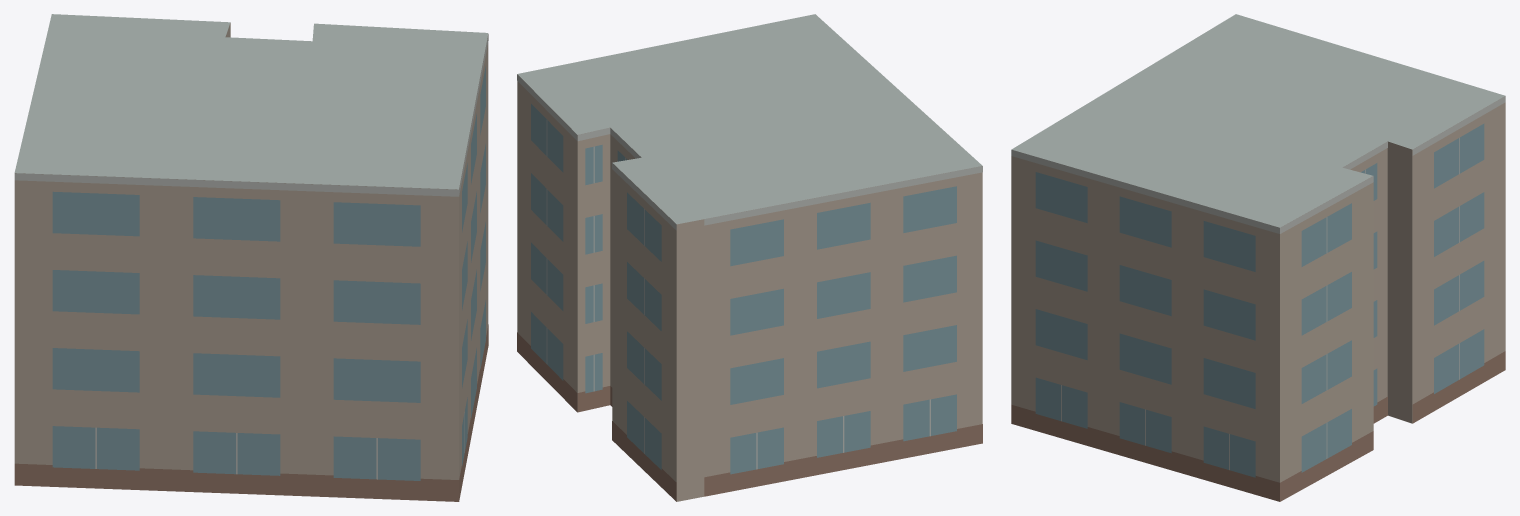
The model's file is survey-upis-32832203.glb.
The picture shows the model from 3 angles, left to right: view 1: azimuth 30°, elevation 25°; view 2: azimuth 150°, elevation 25°; view 3: azimuth 270°, elevation 25°; orthographic projection. The views are drawn at different scales.
Visible parts, largest first — view 1: survey-upis-32832203.tmp; view 2: survey-upis-32832203.tmp; view 3: survey-upis-32832203.tmp.
Part boxes in pixels (x1,y1,x2,y2): survey-upis-32832203.tmp: [14, 14, 488, 501]; survey-upis-32832203.tmp: [517, 14, 982, 501]; survey-upis-32832203.tmp: [1011, 14, 1505, 501].
Size of the model in its own units: 17.48 by 10.45 by 17.09.
